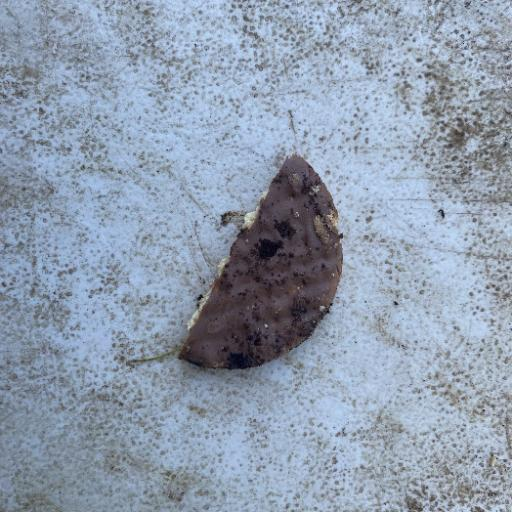Waste: (176, 152, 344, 372)
